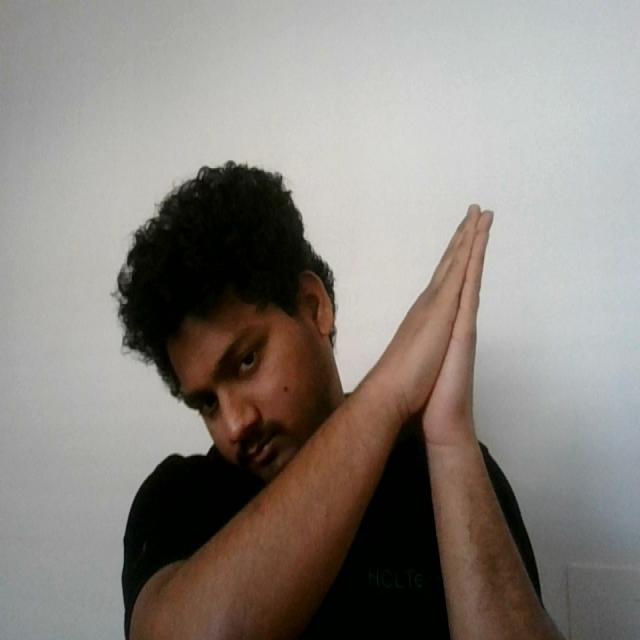Thanks: (367, 197, 502, 457)
